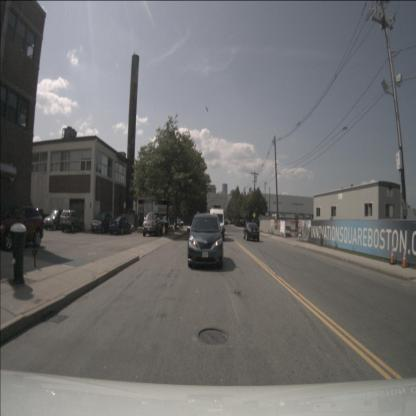movable_object-trafficcone: (402, 248, 408, 268), (390, 245, 395, 265)
vehicle-car: (188, 213, 224, 269), (0, 205, 43, 251), (43, 209, 68, 231), (60, 210, 85, 232), (209, 208, 225, 242), (91, 211, 114, 234), (143, 212, 163, 237), (109, 216, 131, 235), (243, 222, 260, 242), (162, 216, 170, 226), (174, 218, 181, 228)
